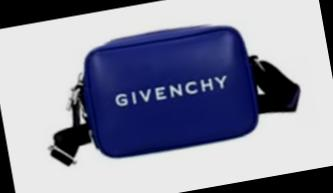GIVENCHY: (108, 63, 232, 116)
